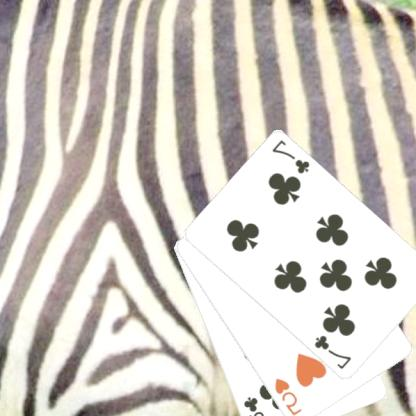10C: (243, 393, 273, 416)
5H: (274, 375, 306, 416)
7C: (270, 137, 314, 176), (313, 332, 355, 371)
